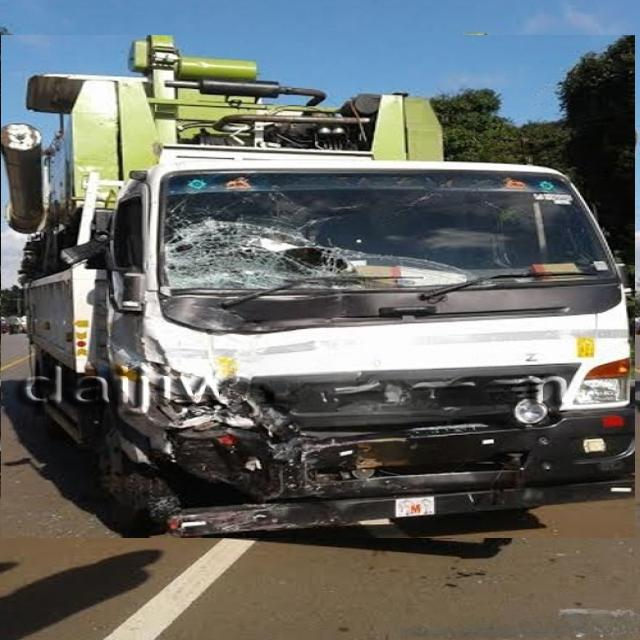accident: (1, 35, 634, 538)
